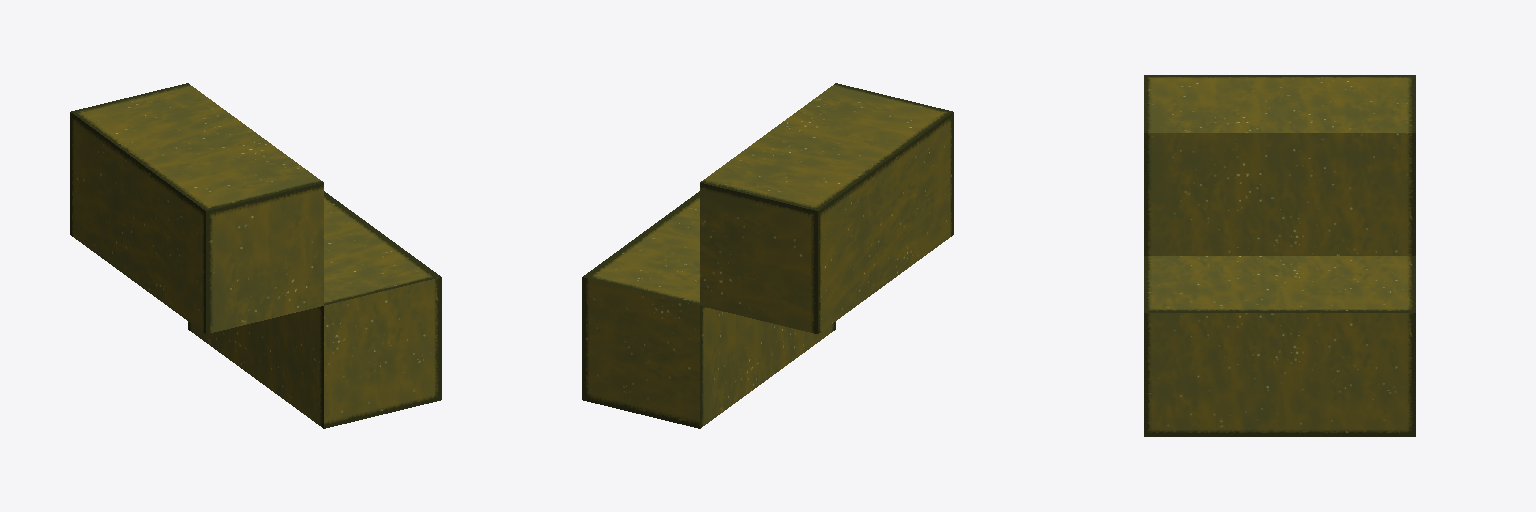
3 renders of one model, left to right at view 1: azimuth 30°, elevation 25°; view 2: azimuth 150°, elevation 25°; view 3: azimuth 270°, elevation 25°, orthographic.
Visible parts, largest first — view 1: 9_path; view 2: 9_path; view 3: 9_path.
Part boxes in pixels (bbox=[...]): 9_path: bbox=[70, 83, 441, 428]; 9_path: bbox=[582, 83, 953, 428]; 9_path: bbox=[1144, 75, 1415, 436].
Bounding box in the file's own units: 1 × 1 × 1.
1 materials, 1 textured.